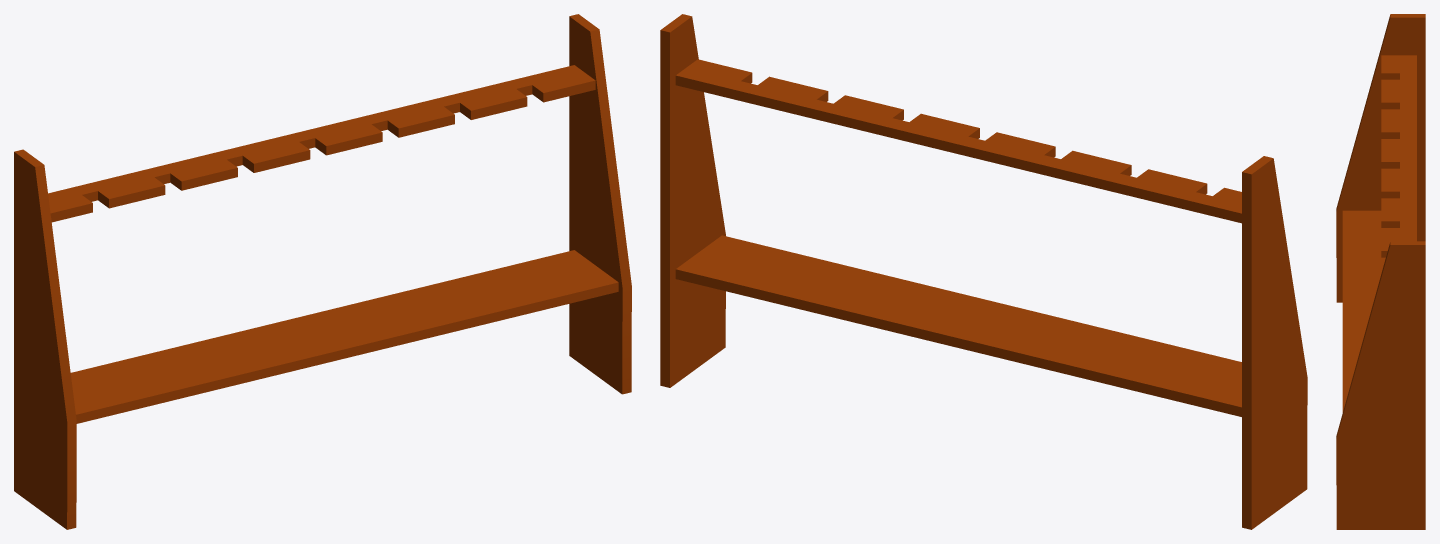
The model's file is podsatavka.FBX.
3 renders of one model, left to right at view 1: azimuth 30°, elevation 25°; view 2: azimuth 150°, elevation 25°; view 3: azimuth 270°, elevation 25°, orthographic. The views are drawn at different scales.
Visible parts, largest first — view 1: Box04, Box02, Box03, Box01; view 2: Box04, Box02, Box03, Box01; view 3: Box03, Box02, Box01, Box04.
Boxes of the visible parts, x1,y1,x2,y2 form: Box04: [70, 250, 618, 423]; Box02: [14, 149, 76, 529]; Box03: [569, 14, 631, 394]; Box01: [48, 65, 595, 222]; Box04: [675, 235, 1241, 416]; Box02: [1242, 156, 1307, 529]; Box03: [660, 14, 725, 387]; Box01: [675, 59, 1241, 223]; Box03: [1336, 241, 1425, 529]; Box02: [1336, 14, 1425, 302]; Box01: [1381, 55, 1416, 273]; Box04: [1342, 210, 1381, 412].
Size of the model in its own units: 273 by 157 by 44.72.
